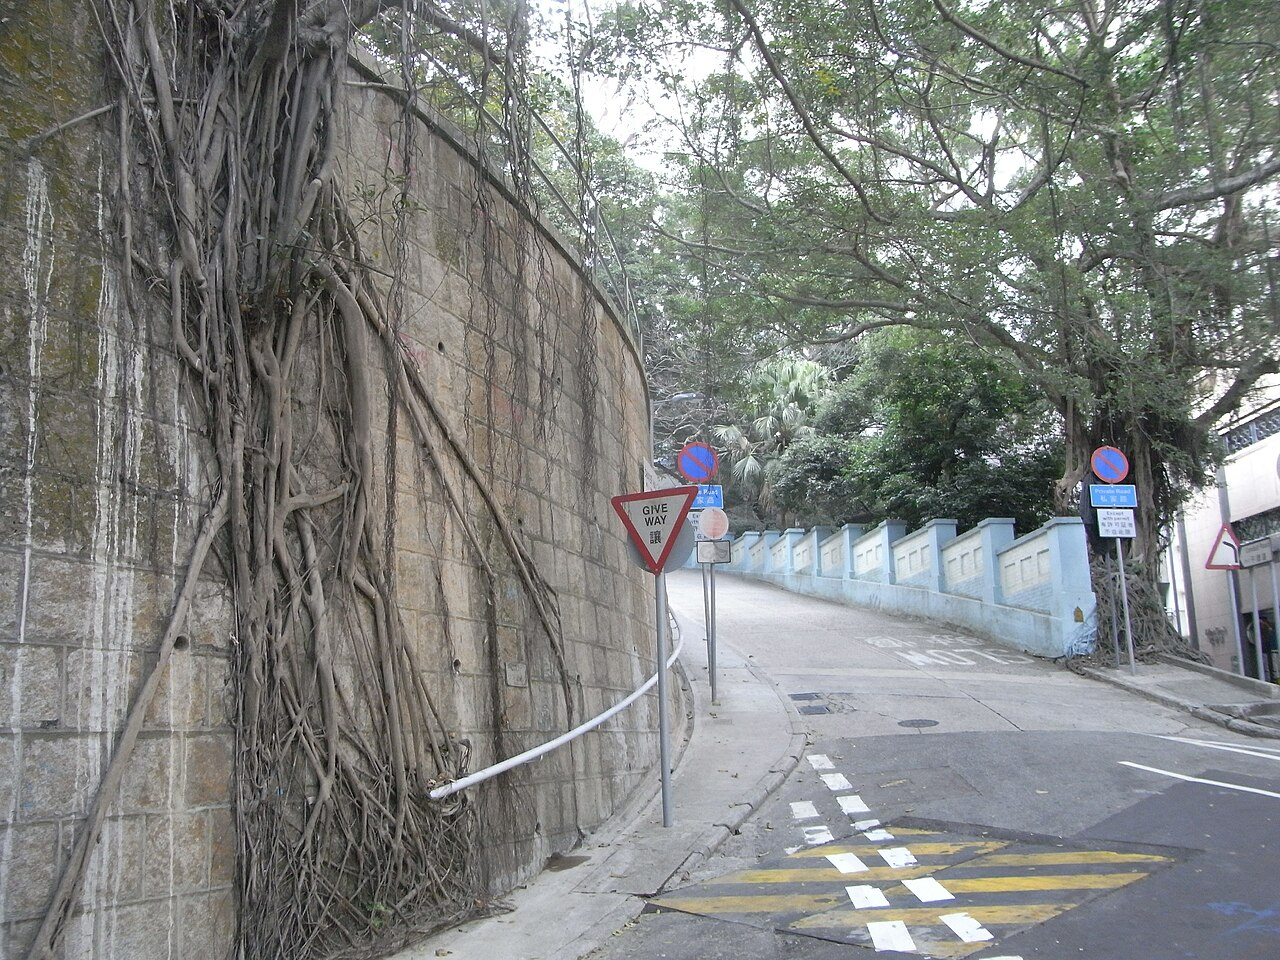Give Way: (602, 490, 695, 575)
No Parking: (676, 442, 719, 487), (1089, 444, 1130, 482)
